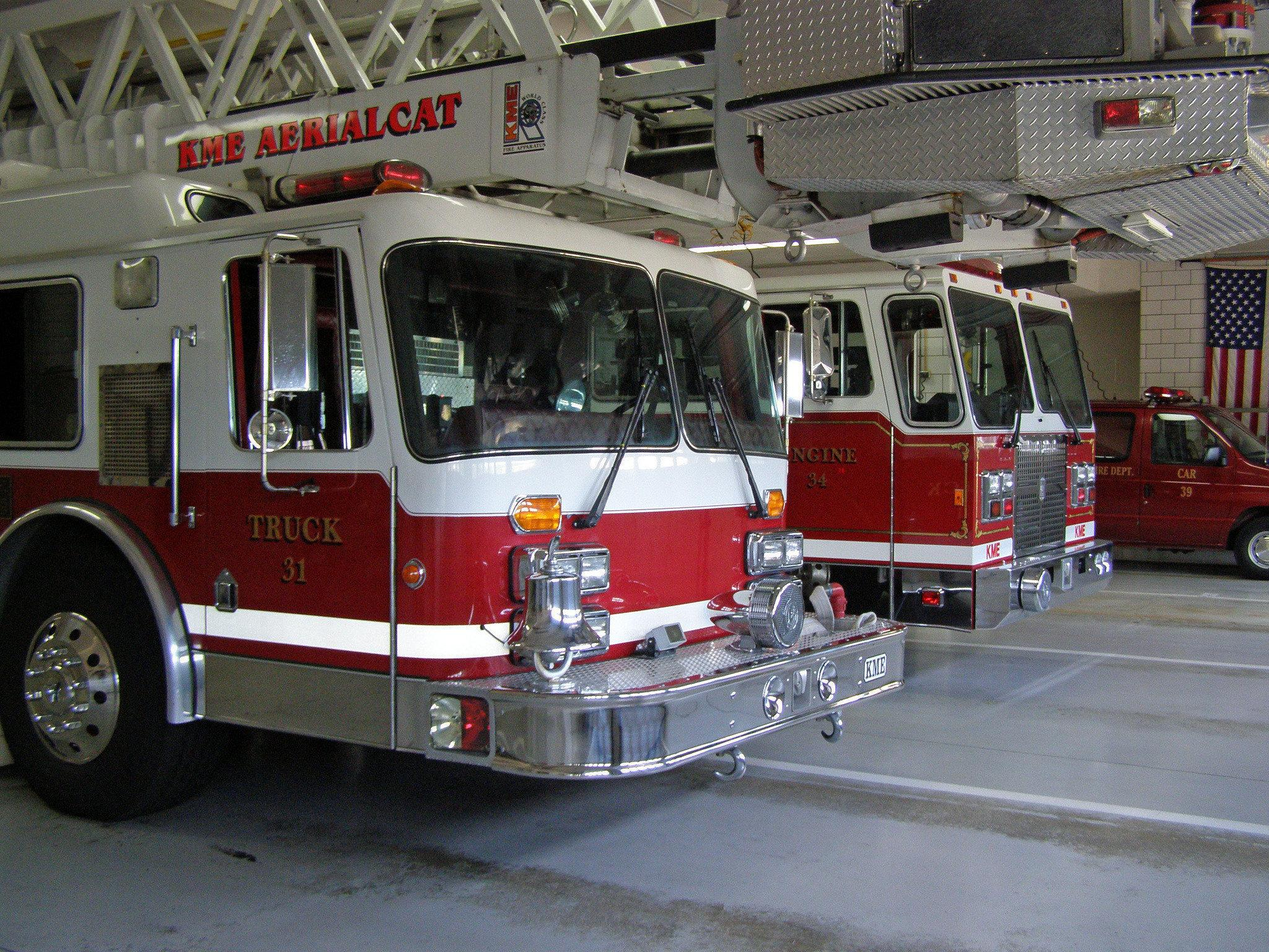Fire-engine: (0, 88, 786, 835), (736, 213, 1167, 701)
